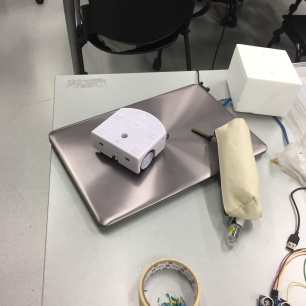thymio: (89, 105, 169, 180)
